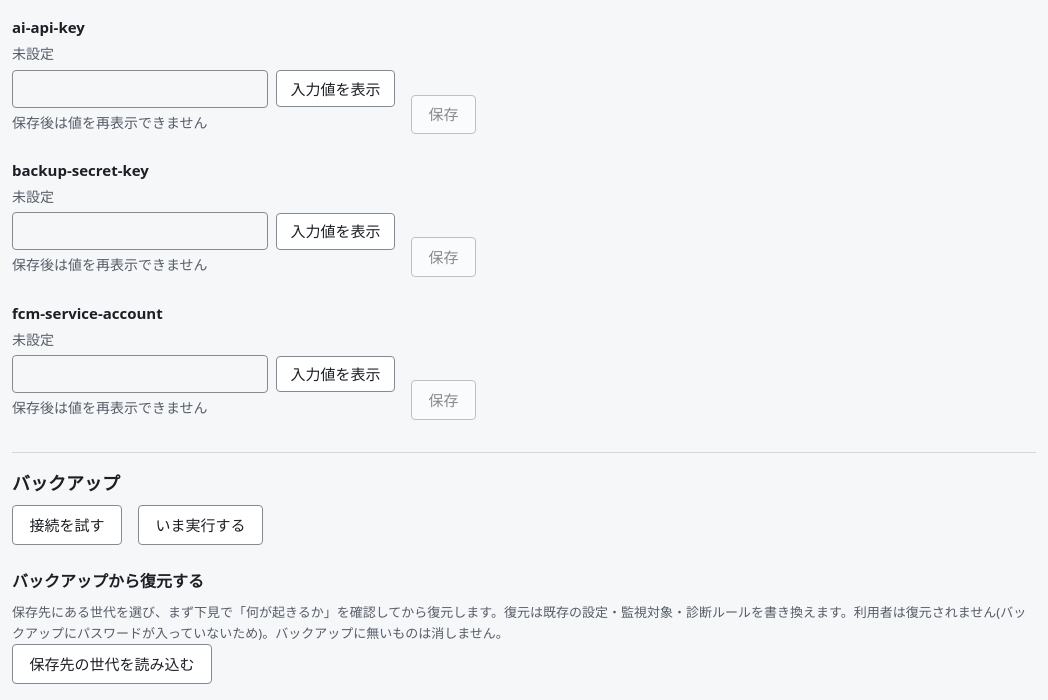
SettingsView バックアップからの復元 › 下見は何が起きるかを出すが、復元は呼ばない
(page scrolled)
Click the button with test id "load-generations". click: (112, 664)
box: 12,644 -> 212,684
(page scrolled)
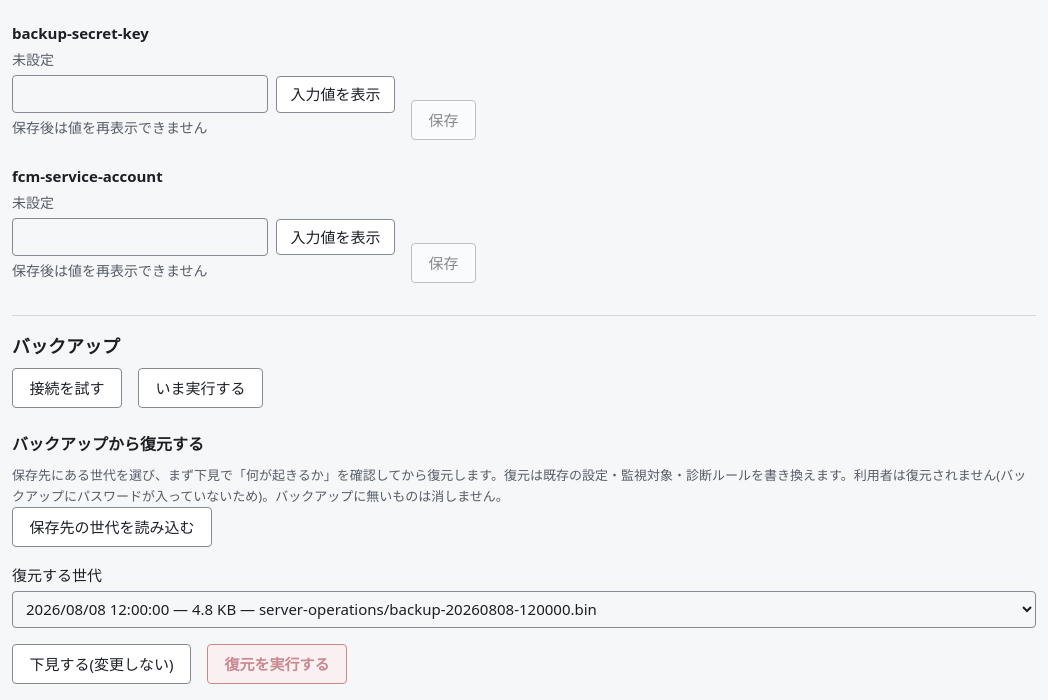
Click the button with test id "preview-restore". click: (102, 664)
box: 12,644 -> 191,684
(page scrolled)
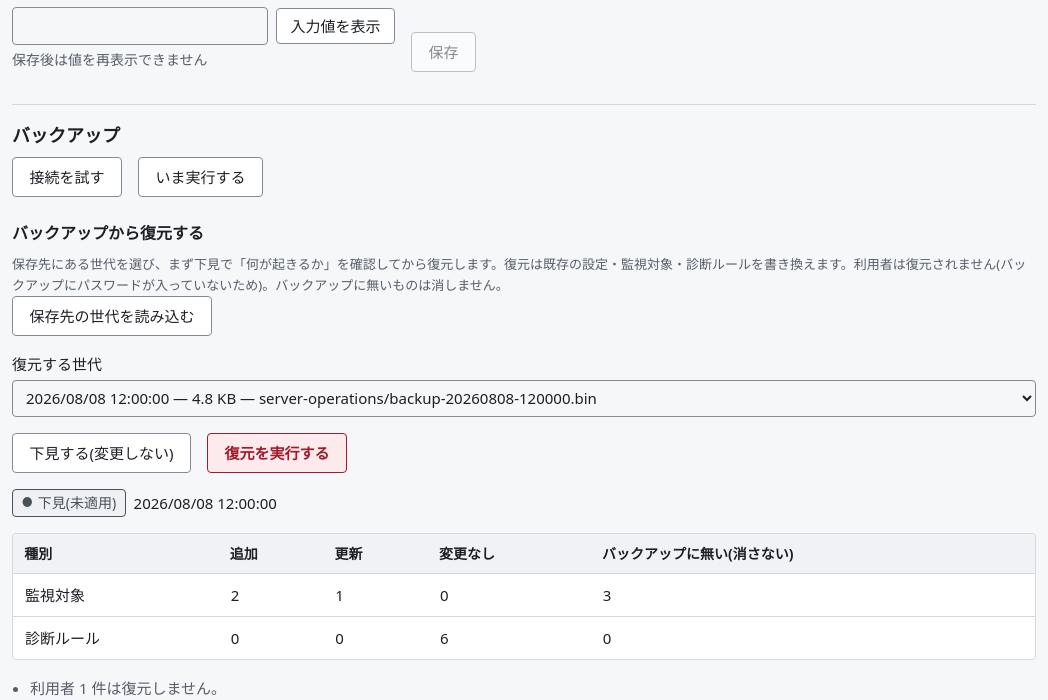
Expected: the element with test id "restore-plan" shows "監視対象", 25,585 -> 85,605
Expected: the element with test id "restore-plan" shows "3", 603,585 -> 611,605
Expected: the element with test id "restore-plan" shows "利用者 1 件は復元しません。", 30,678 -> 226,698
